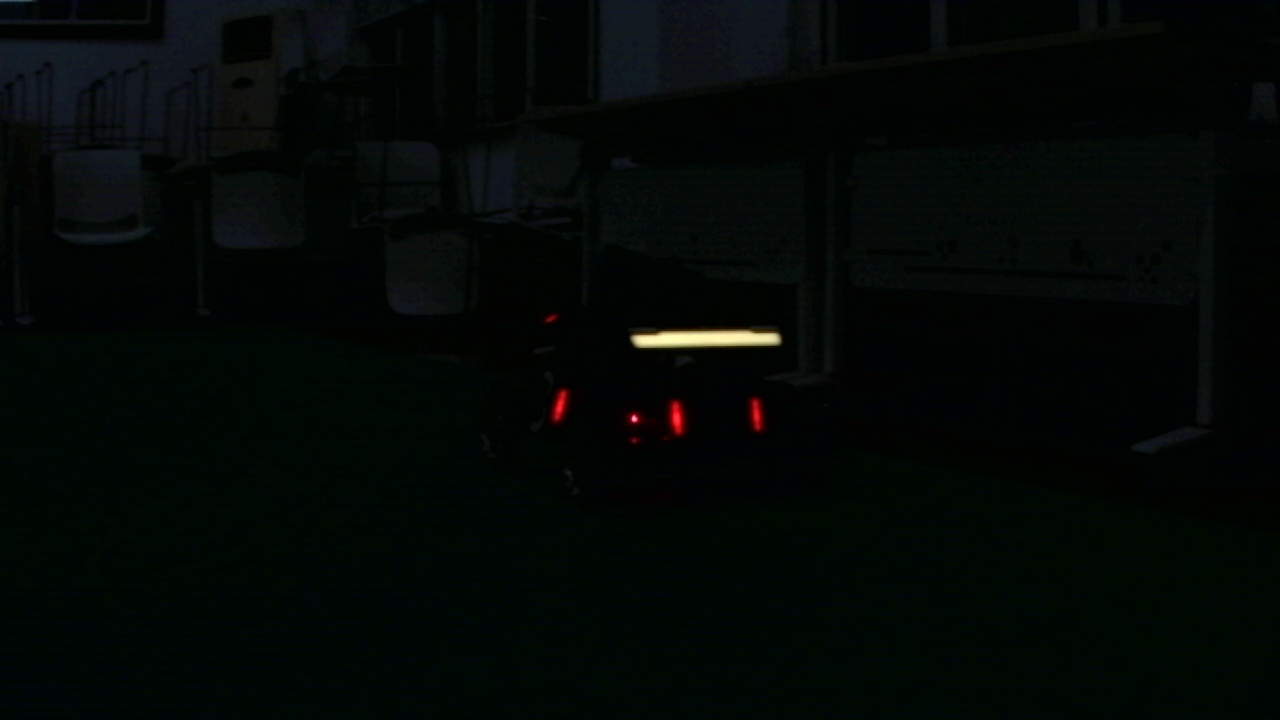lamp: (670, 402, 686, 433), (748, 396, 762, 431), (552, 388, 566, 420)
pair1: (665, 394, 766, 436)
